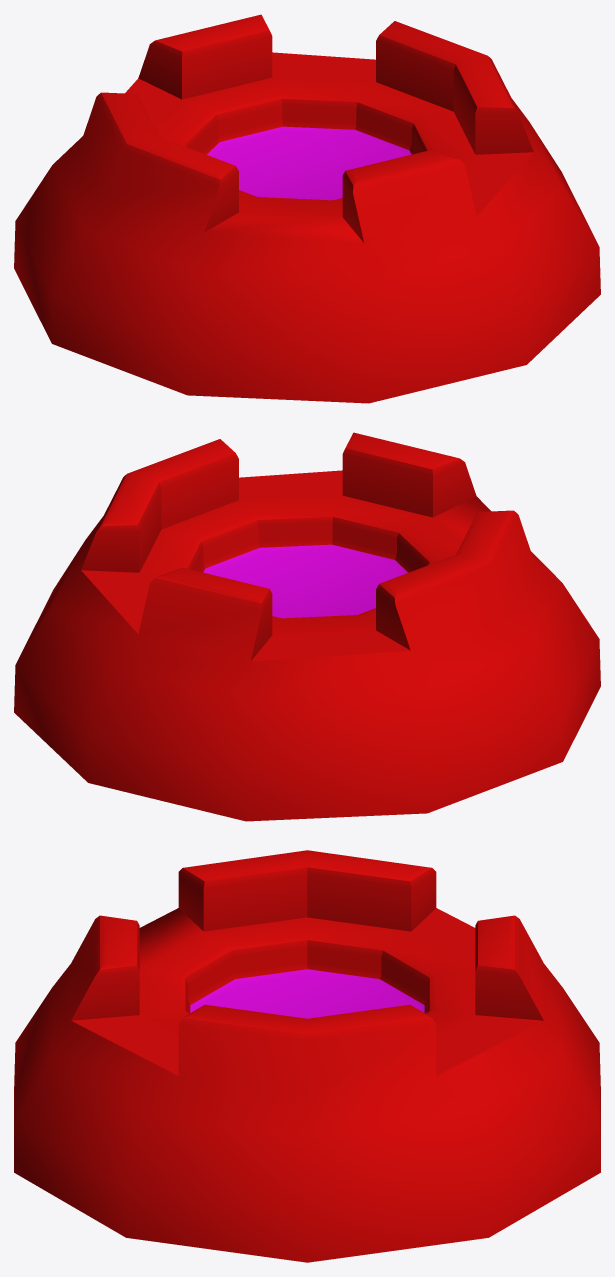
File: Holographic_Device.fbx
3 renders of one model, top to bottom at view 1: azimuth 30°, elevation 25°; view 2: azimuth 150°, elevation 25°; view 3: azimuth 270°, elevation 25°, orthographic. The views are drawn at different scales.
Parts seen in each view (by area): view 1: Holographic_Device; view 2: Holographic_Device; view 3: Holographic_Device.
Part boxes in pixels (bbox=[...]): Holographic_Device: bbox=[14, 14, 600, 403]; Holographic_Device: bbox=[14, 432, 600, 821]; Holographic_Device: bbox=[14, 850, 600, 1262].
Bounding box in the file's own units: 14.73 × 5.05 × 14.01.
